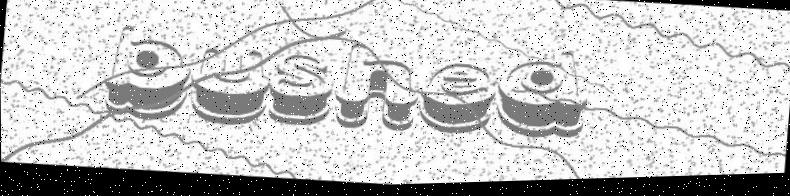b: (100, 21, 195, 126)
d: (494, 49, 591, 148)
e: (416, 61, 498, 141)
h: (333, 43, 422, 137)
s: (267, 53, 334, 130)
u: (188, 46, 273, 132)
